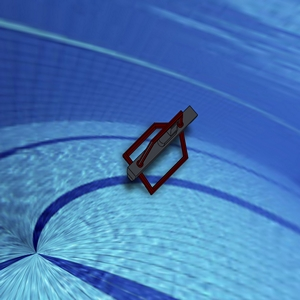submarine: (109, 91, 213, 200)
